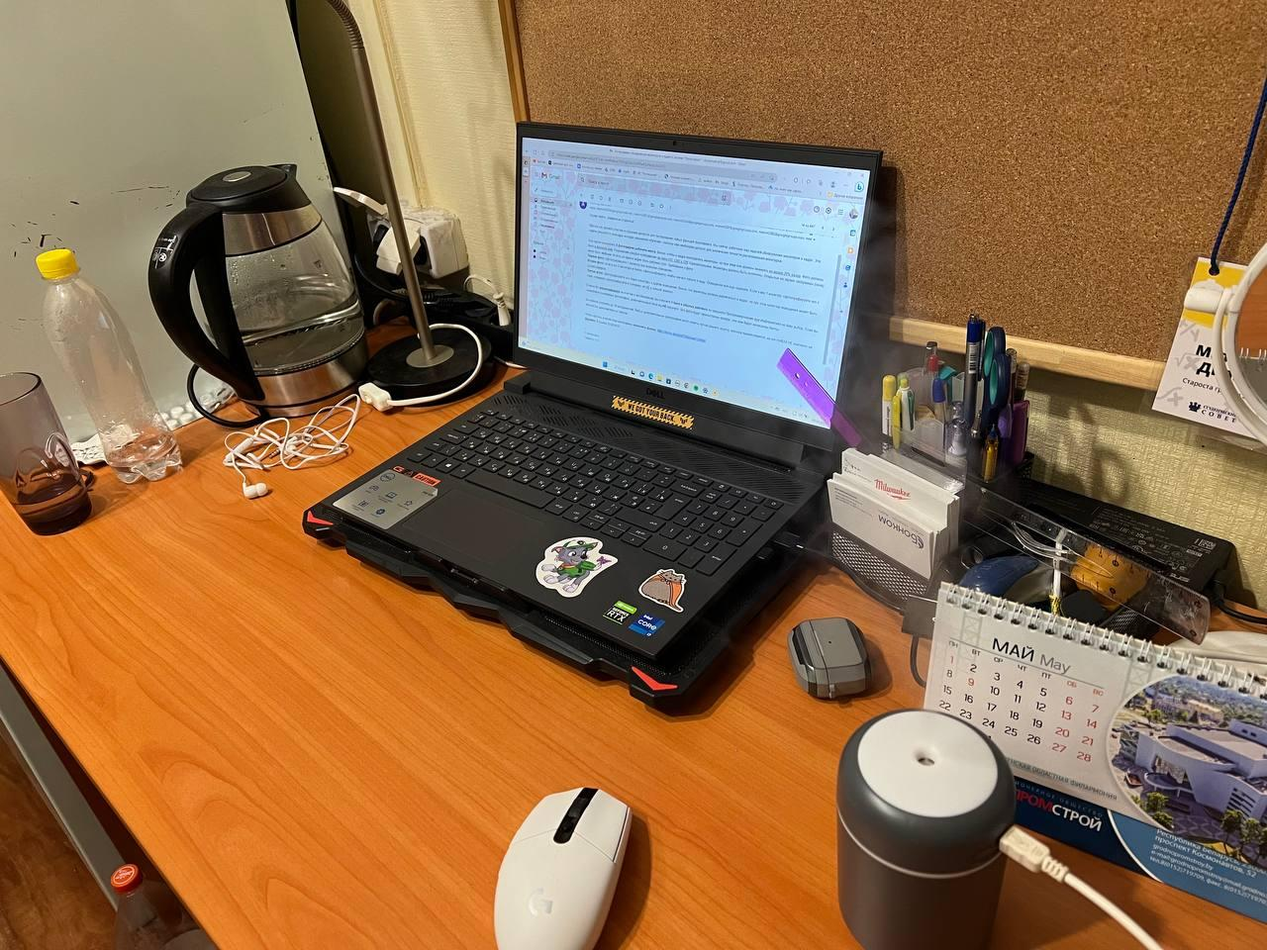monitor: (506, 117, 889, 457)
